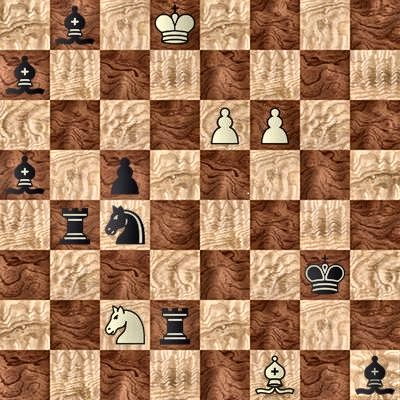black-bishop: (50, 0, 100, 50), (0, 50, 50, 100), (0, 150, 50, 200), (350, 350, 400, 400)
black-king: (300, 250, 350, 300)
black-knight: (100, 200, 150, 250)
black-pawn: (100, 150, 150, 200)
black-rook: (50, 200, 100, 250), (150, 300, 200, 350)
white-bishop: (250, 350, 300, 400)
white-king: (150, 0, 200, 50)
white-knight: (100, 300, 150, 350)
white-pawn: (200, 100, 250, 150), (250, 100, 300, 150)
